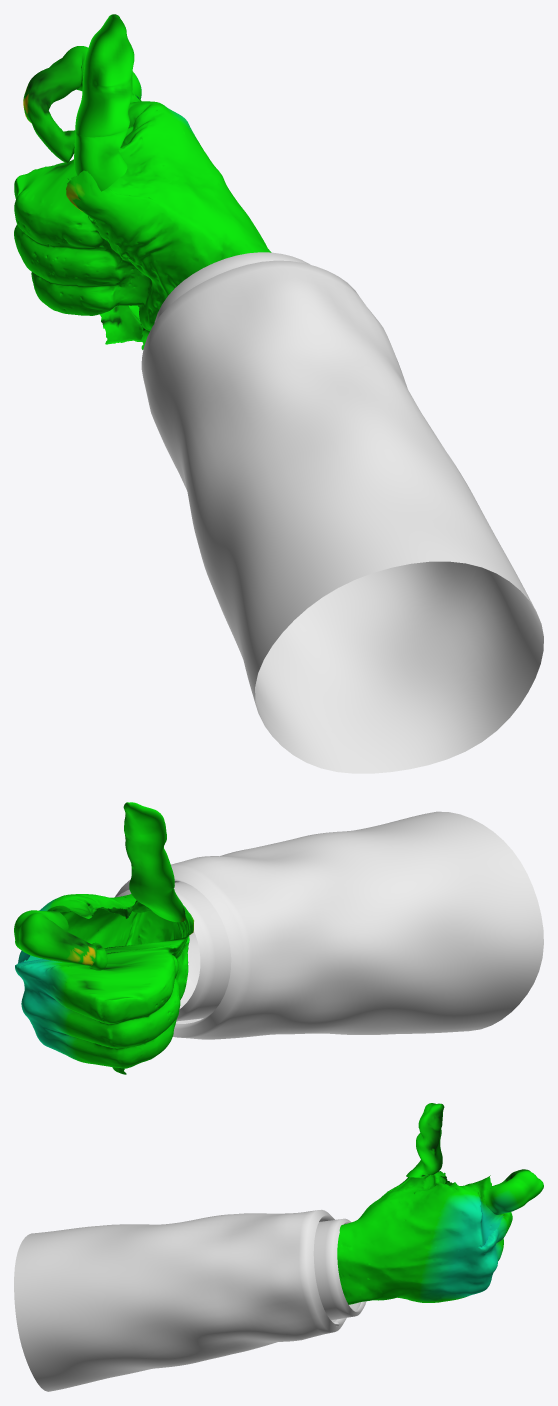
Rendered from hand.glb.
3 views of the same model, one above another, from view 1: azimuth 30°, elevation 25°; view 2: azimuth 150°, elevation 25°; view 3: azimuth 270°, elevation 25° (orthographic). The views are drawn at different scales.
Parts seen in each view (by area): view 1: Sleeve, Hand, Cuff; view 2: Sleeve, Hand, Cuff; view 3: Sleeve, Hand, Cuff.
Boxes of the visible parts, <box> form: Sleeve: <box>141,260,543,773</box>; Hand: <box>14,14,271,349</box>; Cuff: <box>154,252,310,323</box>; Sleeve: <box>115,811,543,1039</box>; Hand: <box>14,802,193,1074</box>; Cuff: <box>116,882,231,1021</box>; Sleeve: <box>14,1209,346,1391</box>; Hand: <box>337,1103,543,1304</box>; Cuff: <box>313,1218,366,1320</box>.
Bounding box in the file's own units: 0.1834 × 0.2706 × 0.4456.
